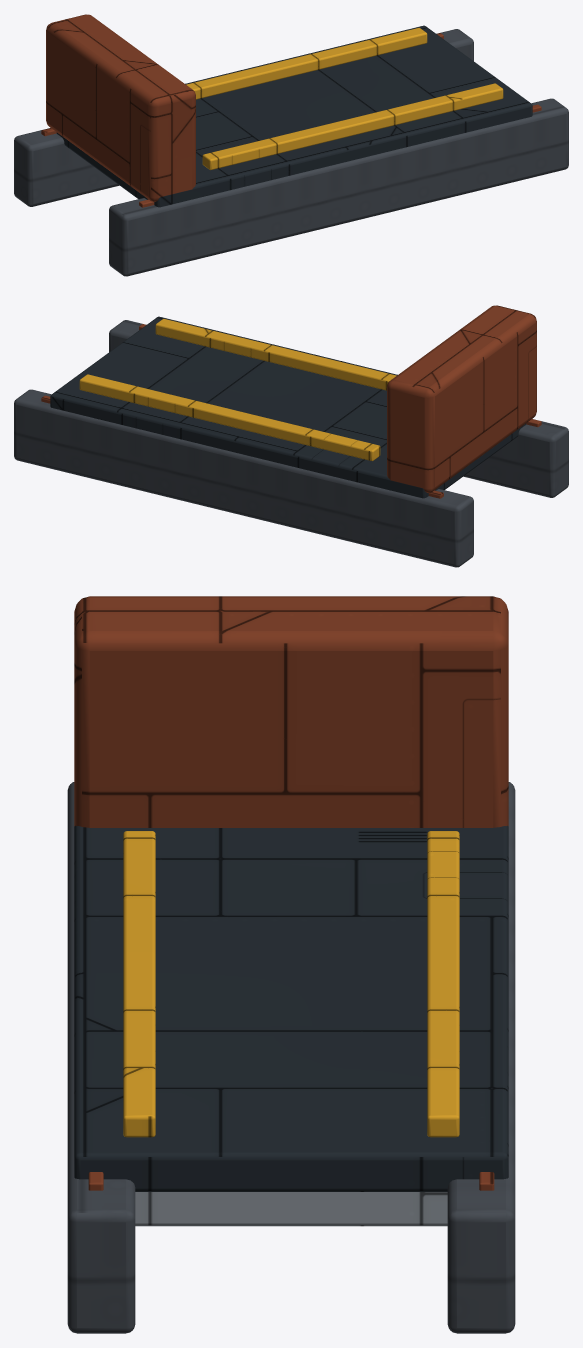
Rendered from ops_launch_sled_lod0.glb.
3 views of the same model, one above another, from view 1: azimuth 30°, elevation 25°; view 2: azimuth 150°, elevation 25°; view 3: azimuth 270°, elevation 25° (orthographic). The views are drawn at different scales.
Parts seen in each view (by area): view 1: LOD0_MOTION_SLED_TRAVEL_Mechanical, LOD0_MOTION_SLED_TRAVEL_Armor, LOD0_MOTION_SLED_TRAVEL_Hull, LOD0_MOTION_SLED_TRAVEL_Warning; view 2: LOD0_MOTION_SLED_TRAVEL_Mechanical, LOD0_MOTION_SLED_TRAVEL_Armor, LOD0_MOTION_SLED_TRAVEL_Hull, LOD0_MOTION_SLED_TRAVEL_Warning; view 3: LOD0_MOTION_SLED_TRAVEL_Armor, LOD0_MOTION_SLED_TRAVEL_Hull, LOD0_MOTION_SLED_TRAVEL_Mechanical, LOD0_MOTION_SLED_TRAVEL_Warning, LOD0_MOTION_SLED_TRAVEL_BrushedMetal.
Part boxes in pixels (box(x1,y1,x2,y2)): LOD0_MOTION_SLED_TRAVEL_Mechanical: box(14, 29, 568, 276); LOD0_MOTION_SLED_TRAVEL_Armor: box(56, 25, 532, 207); LOD0_MOTION_SLED_TRAVEL_Hull: box(41, 14, 541, 207); LOD0_MOTION_SLED_TRAVEL_Warning: box(186, 28, 503, 170); LOD0_MOTION_SLED_TRAVEL_Mechanical: box(14, 320, 568, 567); LOD0_MOTION_SLED_TRAVEL_Armor: box(50, 316, 526, 498); LOD0_MOTION_SLED_TRAVEL_Hull: box(41, 305, 541, 498); LOD0_MOTION_SLED_TRAVEL_Warning: box(79, 319, 396, 461); LOD0_MOTION_SLED_TRAVEL_Armor: box(74, 825, 508, 1191); LOD0_MOTION_SLED_TRAVEL_Hull: box(74, 596, 508, 1190); LOD0_MOTION_SLED_TRAVEL_Mechanical: box(67, 782, 515, 1333); LOD0_MOTION_SLED_TRAVEL_Warning: box(123, 831, 459, 1137); LOD0_MOTION_SLED_TRAVEL_BrushedMetal: box(135, 1192, 447, 1226).
Bounding box in the file's own units: 3.8 × 1.38 × 1.65.
Materials: 5 (5 with a texture image).
